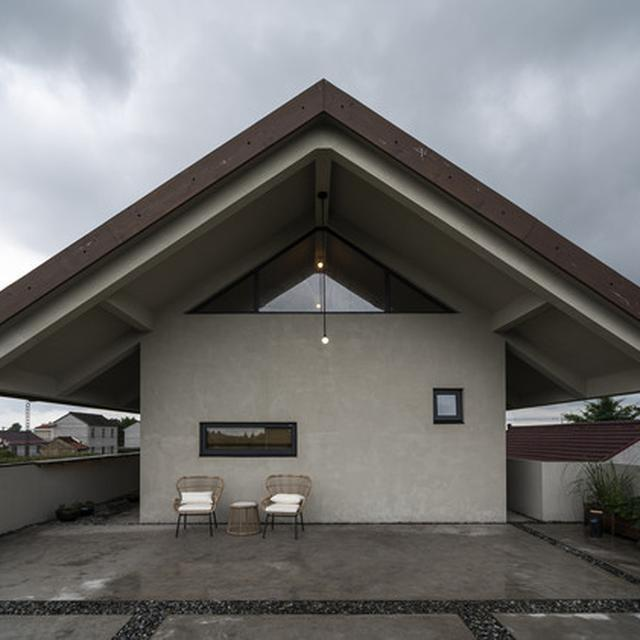building: (0, 73, 640, 540)
